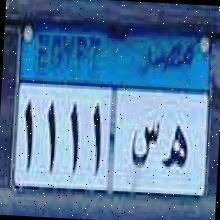1: (61, 95, 84, 178), (40, 93, 61, 178), (18, 91, 38, 171), (87, 94, 105, 177)
haa: (158, 118, 192, 176)
seen: (126, 107, 160, 179)
